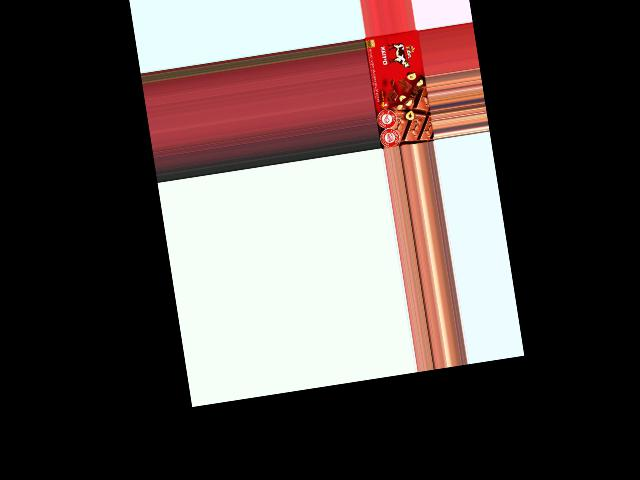chocolate: (365, 29, 434, 148)
